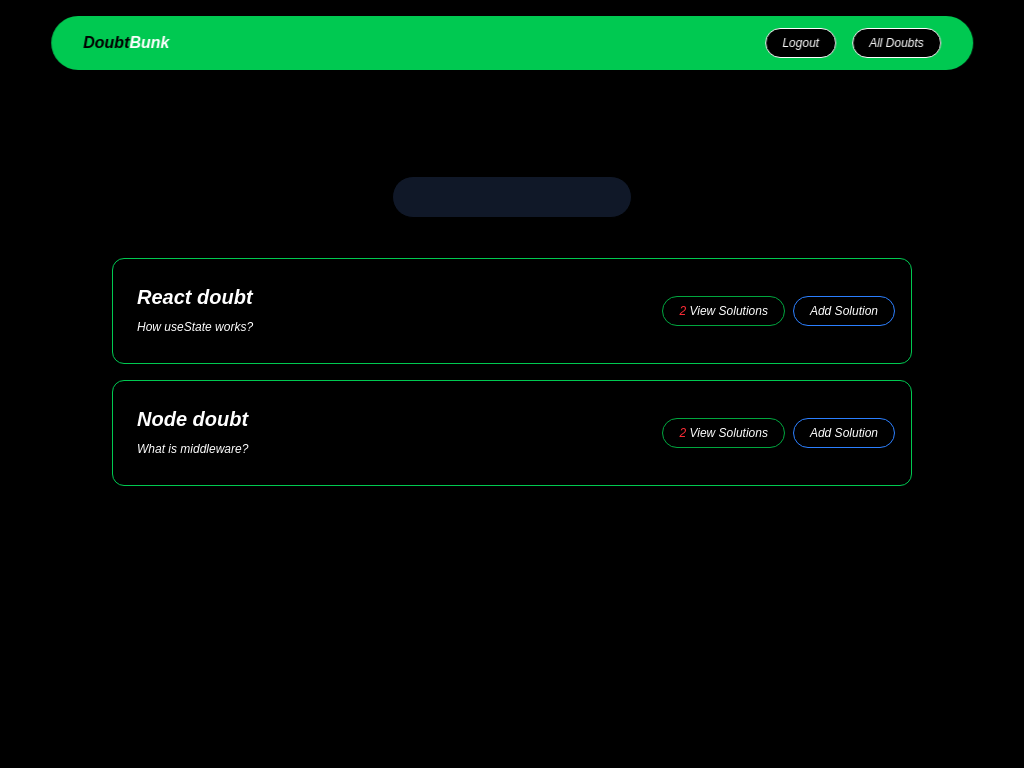
Test case: DoubtBunk - Doubts Page › Submits a solution
Click the button "Add Solution" in the row of "How useState works?": (844, 311) left=793, top=296, right=895, bottom=326
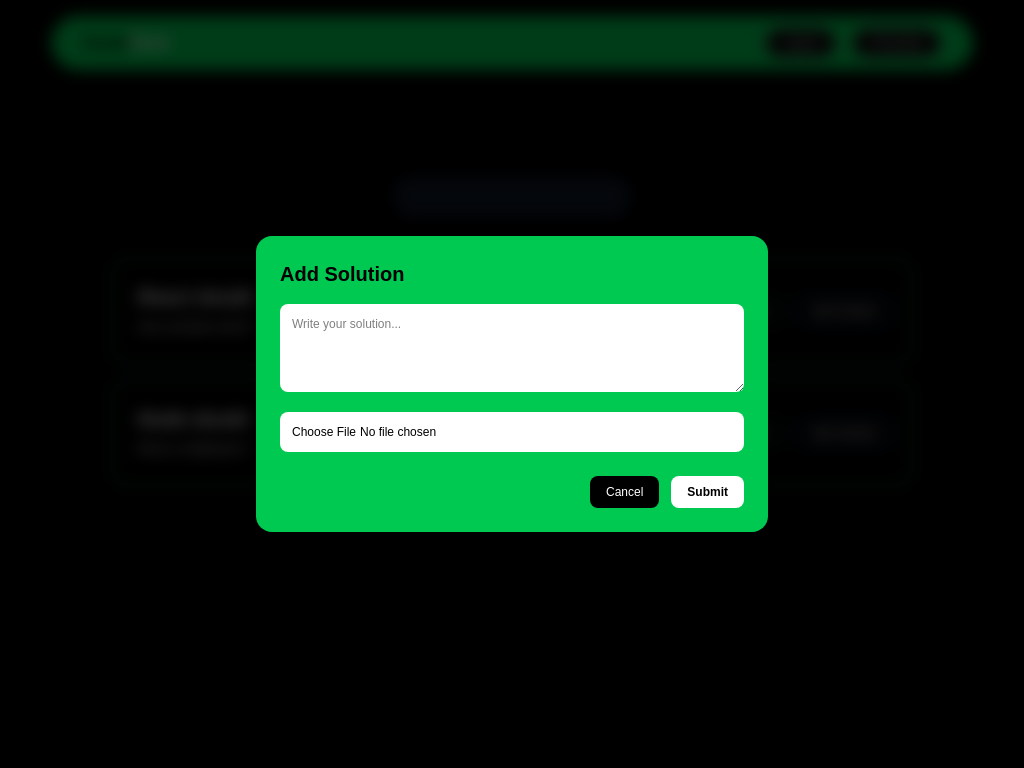
In the text box named "text": (512, 348) left=280, top=304, right=744, bottom=392, type "This is a Cypress solution"
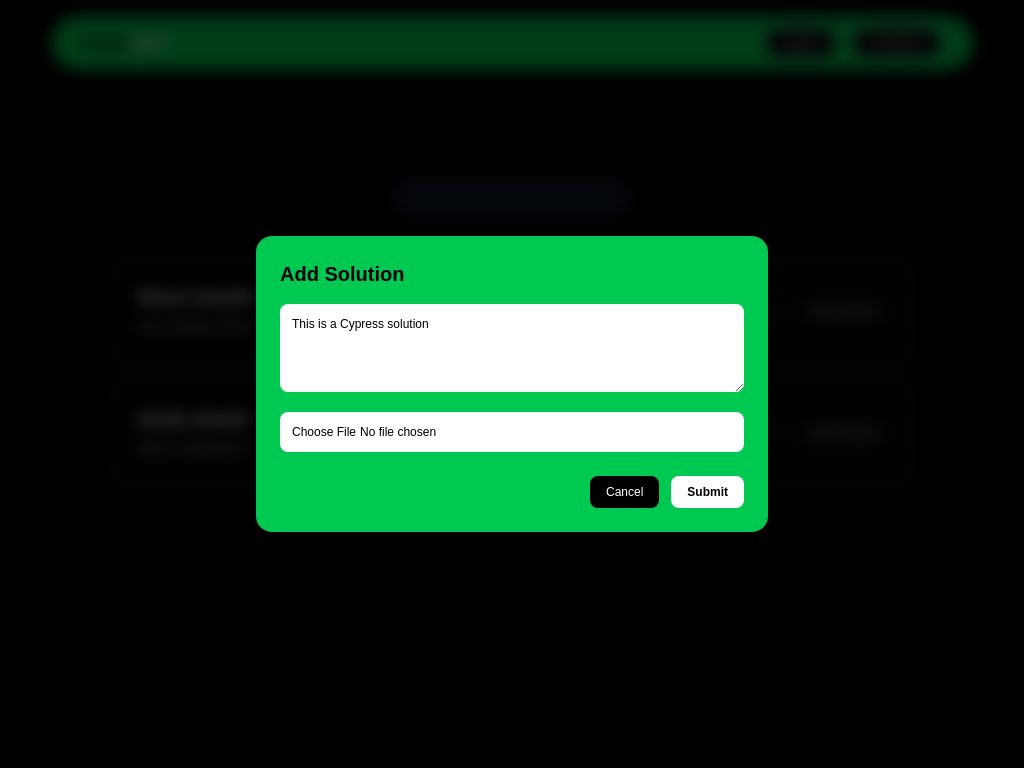
Click the button "Submit": (708, 492) left=671, top=476, right=744, bottom=508
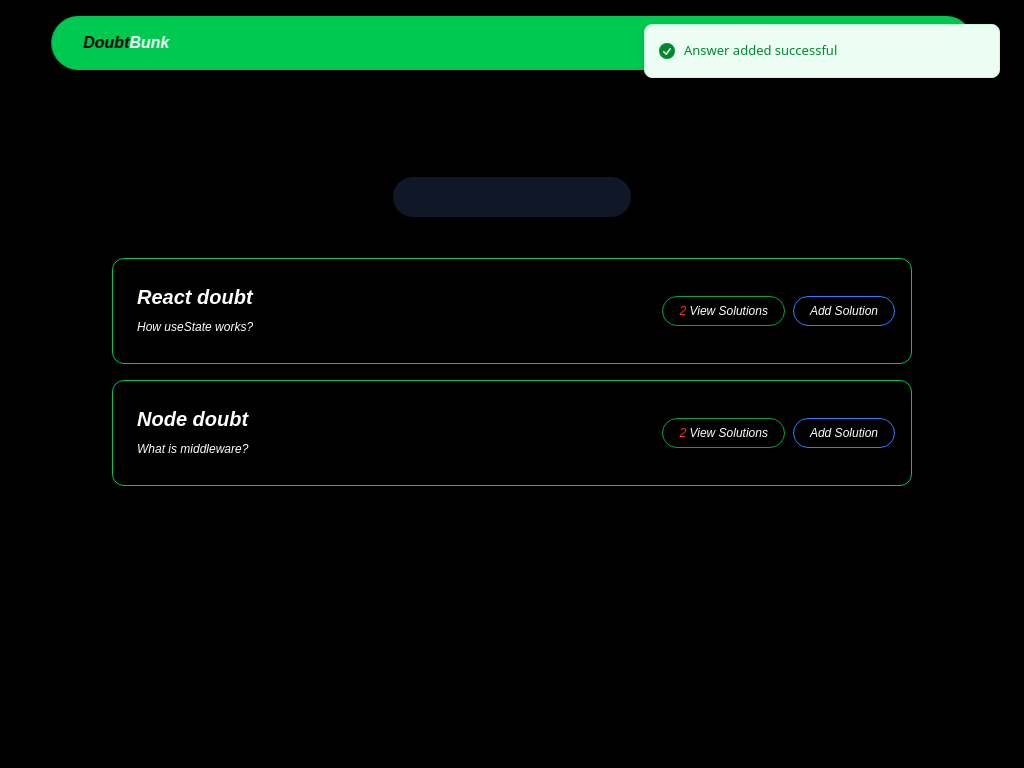
Check: the text "Answer added successful" is shown, box left=684, top=41, right=837, bottom=60
